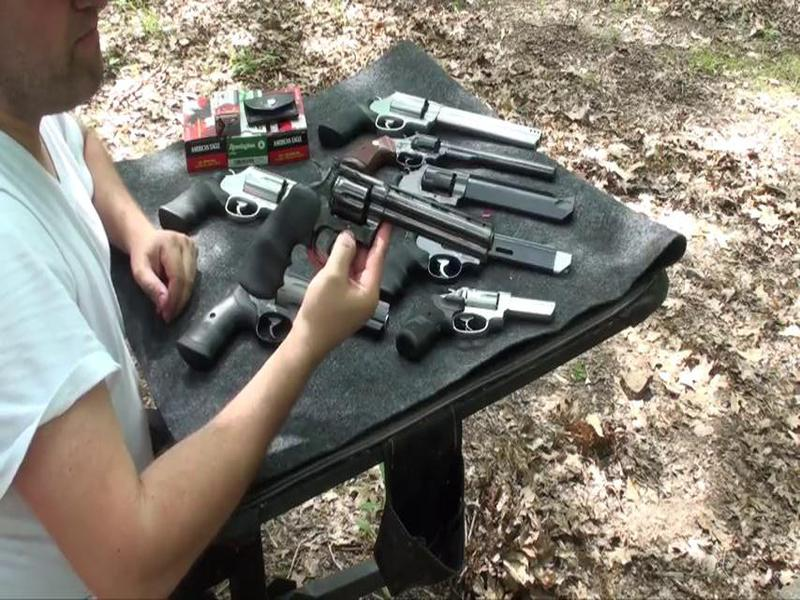Revolver: (258, 154, 497, 319)
